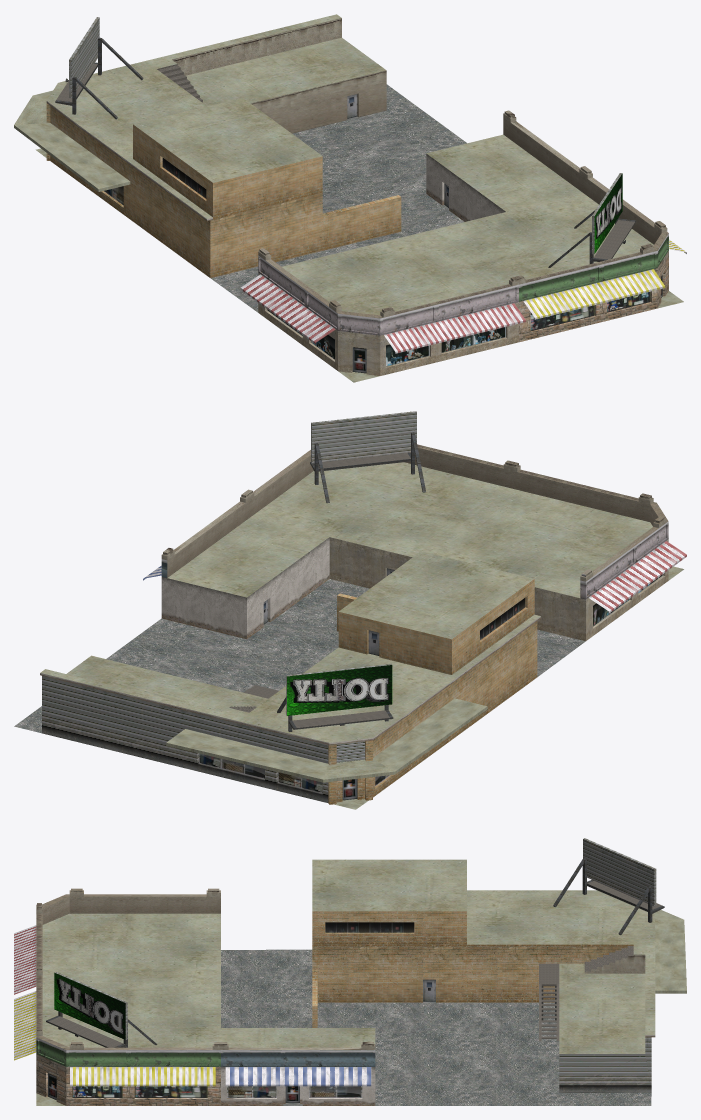
Rendered from sw_blockbit05.obj.
3 views of the same model, one above another, from view 1: azimuth 30°, elevation 25°; view 2: azimuth 150°, elevation 25°; view 3: azimuth 270°, elevation 25° (orthographic). The views are drawn at different scales.
Visible parts, largest first — view 1: sw_blockbit05; view 2: sw_blockbit05; view 3: sw_blockbit05.
Boxes of the visible parts, x1,y1,x2,y2 form: sw_blockbit05: [14, 14, 686, 382]; sw_blockbit05: [14, 411, 686, 809]; sw_blockbit05: [14, 838, 686, 1105].
Size of the model in its own units: 34.74 by 9.99 by 54.72.
Materials: 18 (18 with a texture image).
